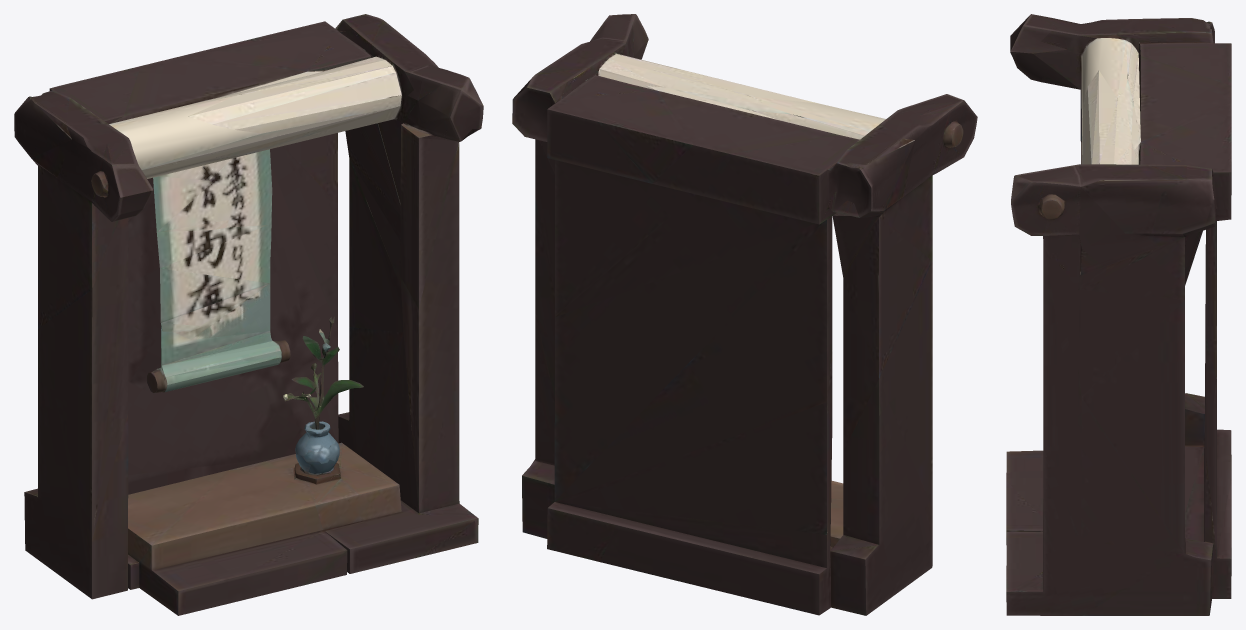
Rendered from kakejiku.glb.
3 views of the same model, side by side, from view 1: azimuth 30°, elevation 25°; view 2: azimuth 150°, elevation 25°; view 3: azimuth 270°, elevation 25° (orthographic). The views are drawn at different scales.
Visible parts, largest first — view 1: kakejiku; view 2: kakejiku; view 3: kakejiku.
Part boxes in pixels (left/top/right/bottom): kakejiku: left=14, top=14, right=483, bottom=615; kakejiku: left=512, top=14, right=977, bottom=615; kakejiku: left=1006, top=14, right=1231, bottom=615.
Size of the model in its own units: 1.87 by 2.2 by 1.03.
Materials: 1 (1 with a texture image).
